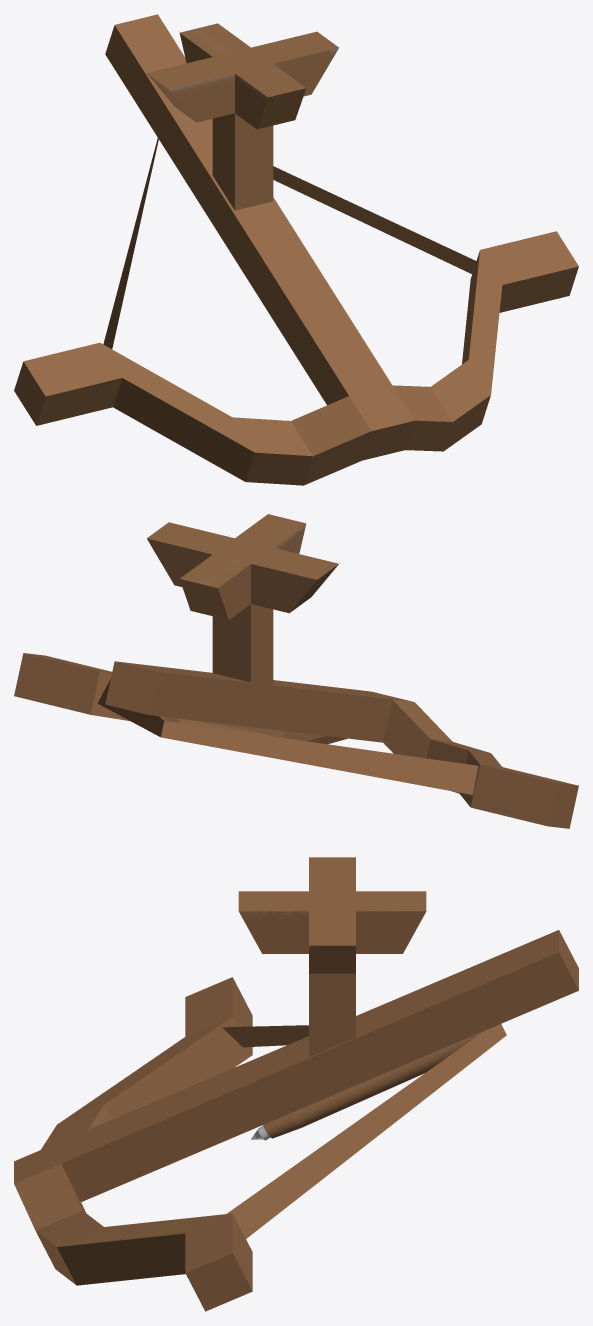
The model's file is Balista com cor.fbx.
3 renders of one model, top to bottom at view 1: azimuth 30°, elevation 25°; view 2: azimuth 150°, elevation 25°; view 3: azimuth 270°, elevation 25°, orthographic. The views are drawn at different scales.
Parts seen in each view (by area): view 1: Balista; view 2: Balista, madeira do projetil; view 3: Balista, madeira do projetil.
Part boxes in pixels (x1,y1,x2,y2): Balista: (14, 14, 578, 485); Balista: (14, 514, 578, 828); madeira do projetil: (163, 717, 276, 736); Balista: (14, 857, 578, 1311); madeira do projetil: (263, 1031, 483, 1138).
Size of the model in its own units: 2783 by 1559 by 2407.
3 materials, 3 textured.
